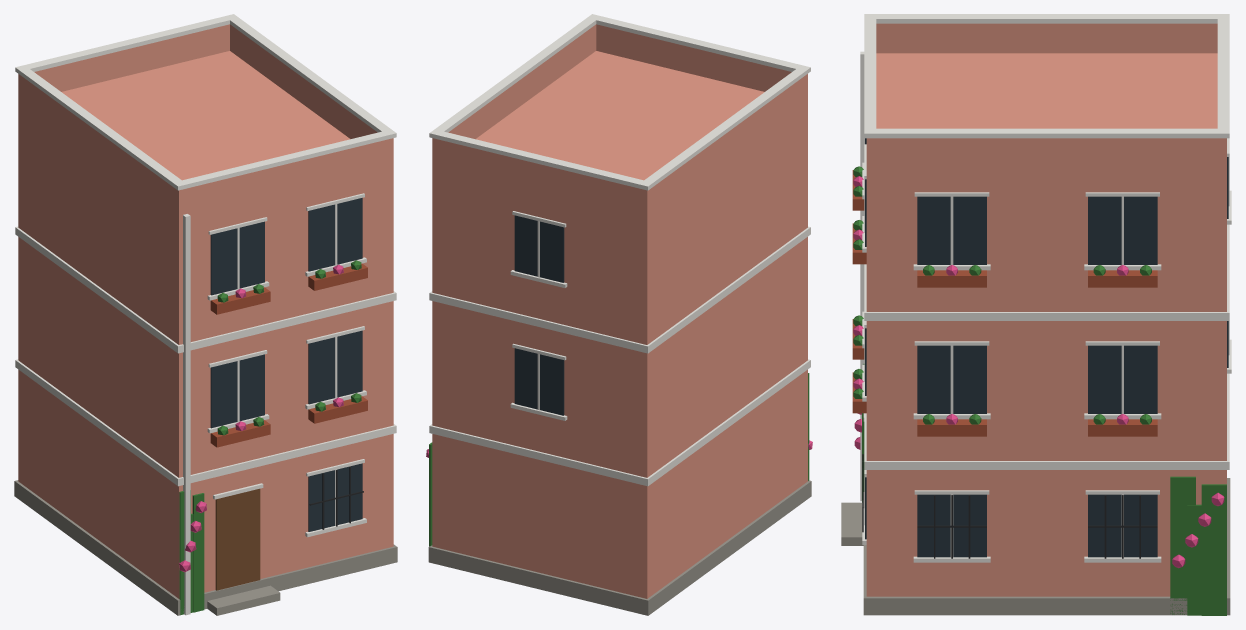
File: BAY_F_Corner_P.glb
3 views of the same model, side by side, from view 1: azimuth 30°, elevation 25°; view 2: azimuth 150°, elevation 25°; view 3: azimuth 270°, elevation 25° (orthographic). The views are drawn at different scales.
Visible parts, largest first — view 1: BAY_F_Corner_P; view 2: BAY_F_Corner_P; view 3: BAY_F_Corner_P.
Boxes of the visible parts, x1,y1,x2,y2 form: BAY_F_Corner_P: (14, 14, 397, 615); BAY_F_Corner_P: (426, 14, 812, 615); BAY_F_Corner_P: (841, 14, 1231, 615).
Size of the model in its own units: 4.67 by 8.4 by 6.17.
Materials: 1 (1 with a texture image).
